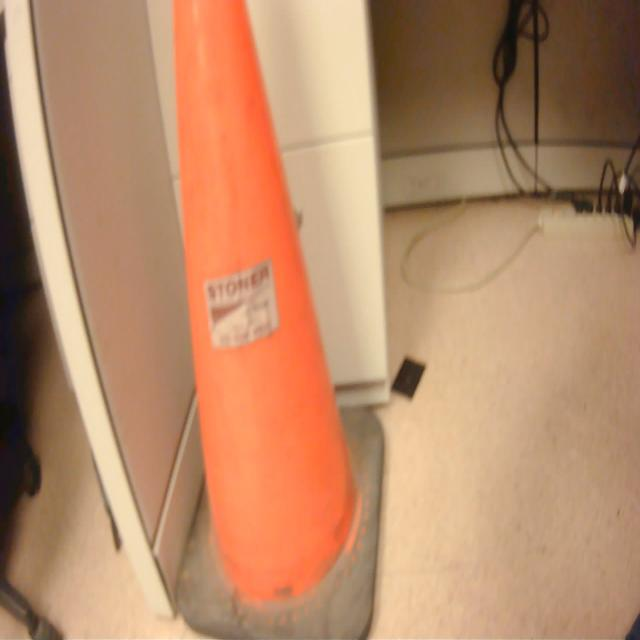traffic cone: (156, 1, 395, 640)
